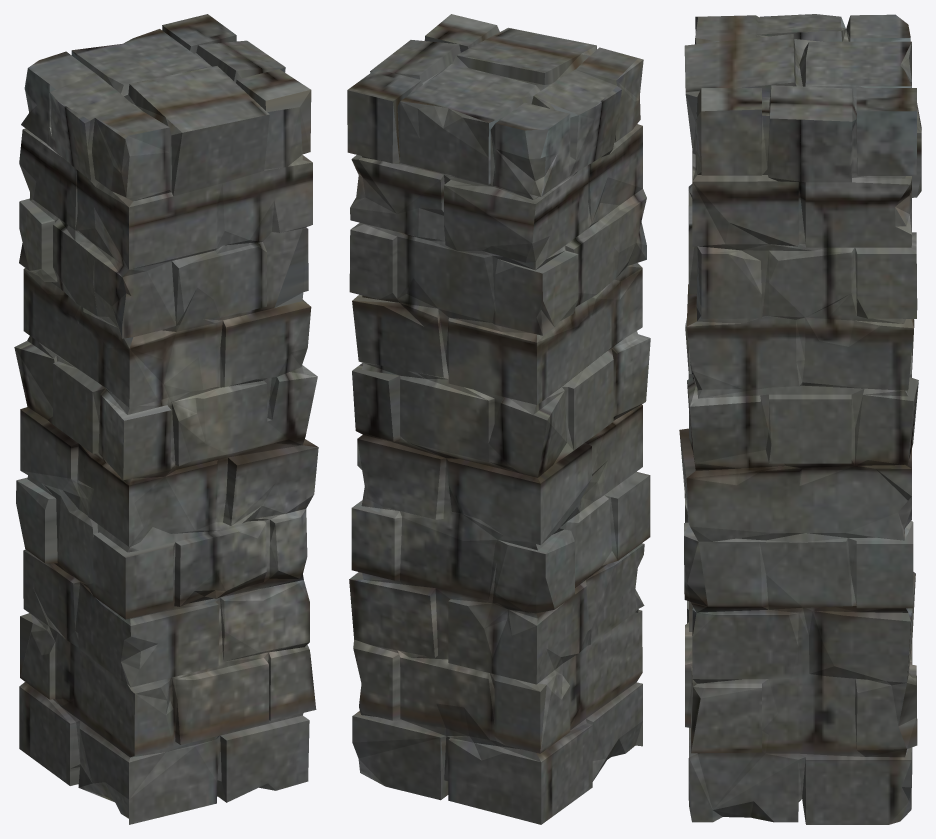
Rendered from Pillar Square.fbx.
3 views of the same model, side by side, from view 1: azimuth 30°, elevation 25°; view 2: azimuth 150°, elevation 25°; view 3: azimuth 270°, elevation 25° (orthographic). The views are drawn at different scales.
Parts seen in each view (by area): view 1: Pillar 2; view 2: Pillar 2; view 3: Pillar 2.
Boxes of the visible parts, x1,y1,x2,y2 form: Pillar 2: (14, 14, 318, 824); Pillar 2: (347, 14, 650, 824); Pillar 2: (679, 14, 921, 824).
Size of the model in its own units: 338 by 1083 by 329.
Materials: 1 (1 with a texture image).
